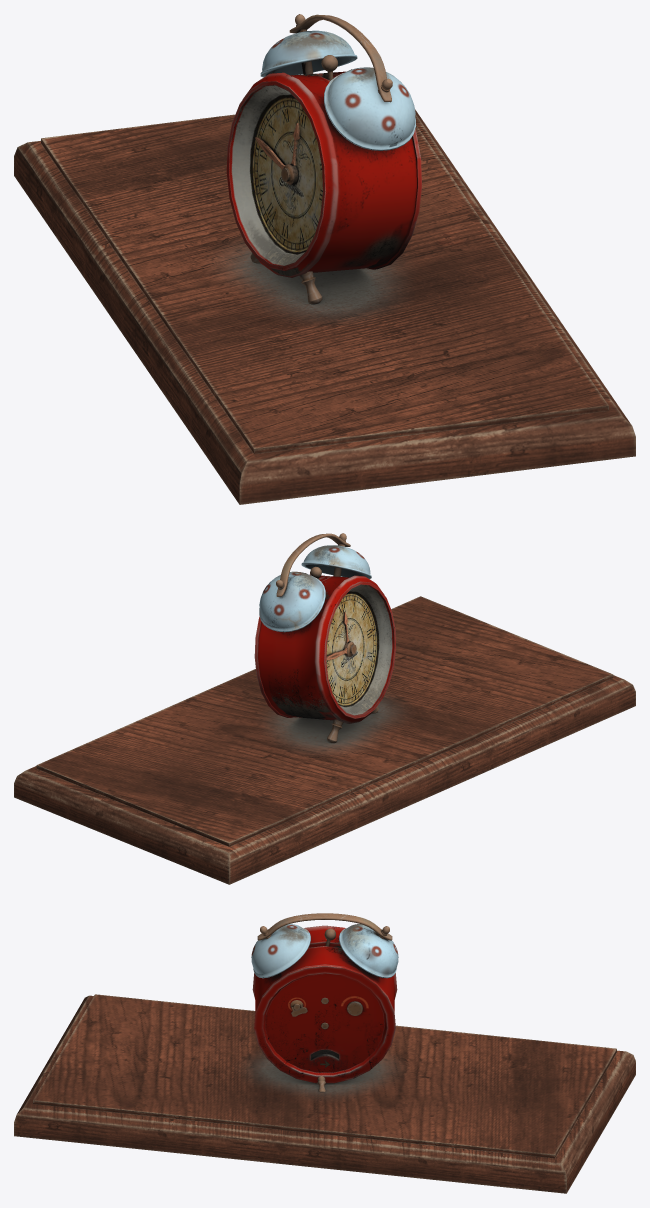
File: alarm_clock.glb
3 views of the same model, one above another, from view 1: azimuth 30°, elevation 25°; view 2: azimuth 150°, elevation 25°; view 3: azimuth 270°, elevation 25° (orthographic). The views are drawn at different scales.
Parts seen in each view (by area): view 1: Object_2; view 2: Object_2; view 3: Object_2.
Boxes of the visible parts, <box> form: Object_2: <box>14,14,635,504</box>; Object_2: <box>14,533,635,884</box>; Object_2: <box>14,913,635,1193</box>.
Size of the model in its own units: 5.99 by 3.16 by 8.93.
Materials: 1 (1 with a texture image).
